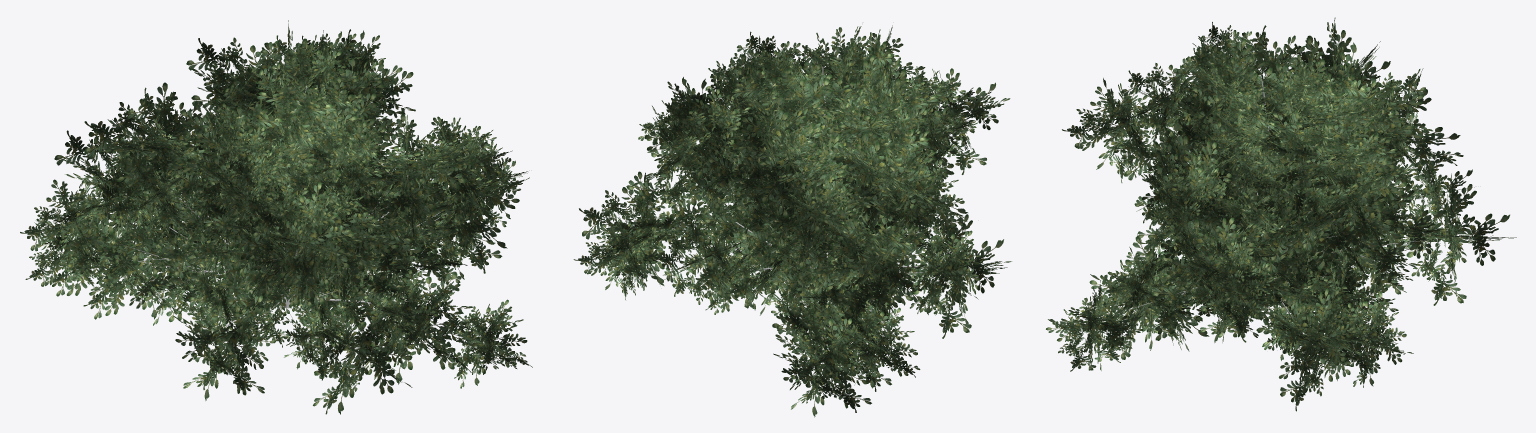
The model's file is bush-01.fbx.
3 renders of one model, left to right at view 1: azimuth 30°, elevation 25°; view 2: azimuth 150°, elevation 25°; view 3: azimuth 270°, elevation 25°, orthographic. The views are drawn at different scales.
Visible parts, largest first — view 1: bush_01; view 2: bush_01; view 3: bush_01.
Boxes of the visible parts, box(x1,y1,x2,y2) form: bush_01: box(20, 20, 532, 414); bush_01: box(573, 25, 1011, 417); bush_01: box(1046, 17, 1516, 411).
Bounding box in the file's own units: 9.87 × 7.12 × 9.46.
